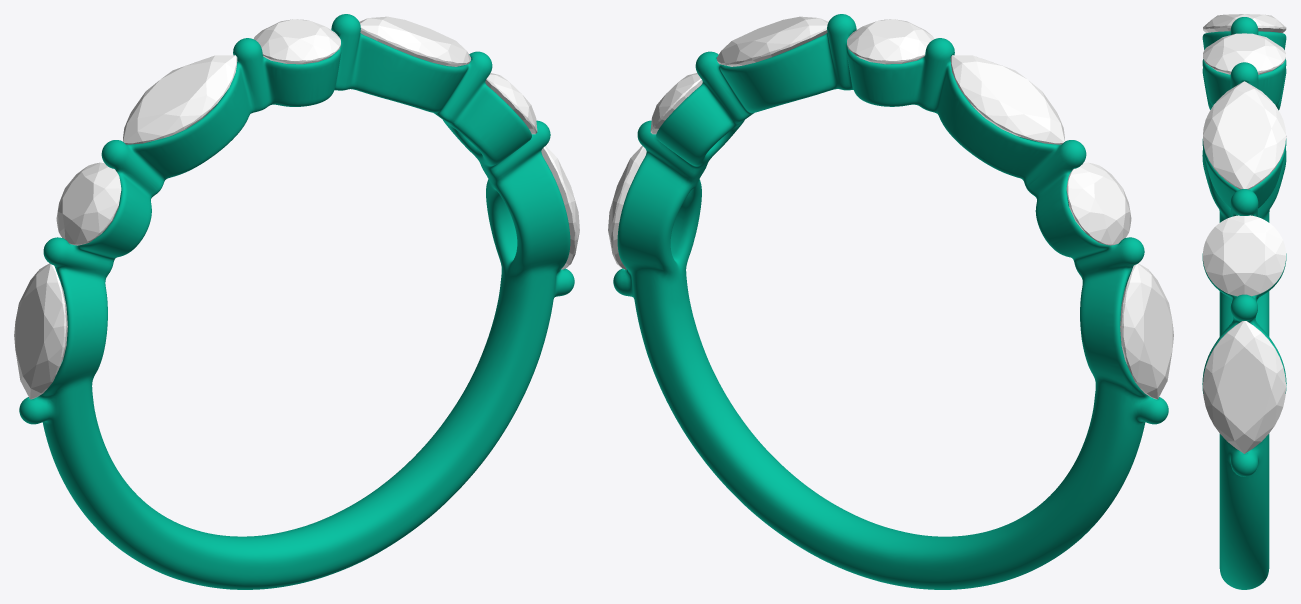
File: BE2D3390_RENDER.glb
3 views of the same model, side by side, from view 1: azimuth 30°, elevation 25°; view 2: azimuth 150°, elevation 25°; view 3: azimuth 270°, elevation 25° (orthographic). The views are drawn at different scales.
Parts seen in each view (by area): view 1: Metal03, Diamond_Marquise_Gem_BD.001, Diamond_Marquise_Gem_BD, Diamond_Round_Gem_BD.001, Diamond_Marquise_Gem_BD.003, Diamond_Round_Gem_BD, Diamond_Marquise_Gem_BD.002, Diamond_Round_Gem_BD.002; view 2: Metal03, Diamond_Marquise_Gem_BD.001, Diamond_Marquise_Gem_BD, Diamond_Round_Gem_BD.001, Diamond_Marquise_Gem_BD.003, Diamond_Round_Gem_BD, Diamond_Marquise_Gem_BD.002, Diamond_Round_Gem_BD.002; view 3: Metal03, Diamond_Marquise_Gem_BD.002, Diamond_Marquise_Gem_BD.003, Diamond_Round_Gem_BD.002, Diamond_Round_Gem_BD, Diamond_Marquise_Gem_BD.001.
Part boxes in pixels (<box>): Metal03: <box>19,14,574,589</box>; Diamond_Marquise_Gem_BD.001: <box>123,55,237,144</box>; Diamond_Marquise_Gem_BD: <box>14,263,67,399</box>; Diamond_Round_Gem_BD.001: <box>56,162,121,245</box>; Diamond_Marquise_Gem_BD.003: <box>359,16,471,66</box>; Diamond_Round_Gem_BD: <box>254,19,340,64</box>; Diamond_Marquise_Gem_BD.002: <box>541,146,579,269</box>; Diamond_Round_Gem_BD.002: <box>485,73,537,134</box>; Metal03: <box>613,14,1168,589</box>; Diamond_Marquise_Gem_BD.001: <box>950,55,1064,144</box>; Diamond_Marquise_Gem_BD: <box>1120,263,1173,399</box>; Diamond_Round_Gem_BD.001: <box>1066,162,1131,245</box>; Diamond_Marquise_Gem_BD.003: <box>716,16,828,66</box>; Diamond_Round_Gem_BD: <box>847,19,933,64</box>; Diamond_Marquise_Gem_BD.002: <box>608,145,646,269</box>; Diamond_Round_Gem_BD.002: <box>650,73,702,134</box>; Metal03: <box>1202,17,1286,589</box>; Diamond_Marquise_Gem_BD.002: <box>1203,321,1286,453</box>; Diamond_Marquise_Gem_BD.003: <box>1203,81,1286,189</box>; Diamond_Round_Gem_BD.002: <box>1203,215,1285,296</box>; Diamond_Round_Gem_BD: <box>1203,33,1285,74</box>; Diamond_Marquise_Gem_BD.001: <box>1203,14,1286,32</box>.
Size of the model in its own units: 21.67 by 20.78 by 3.03.
